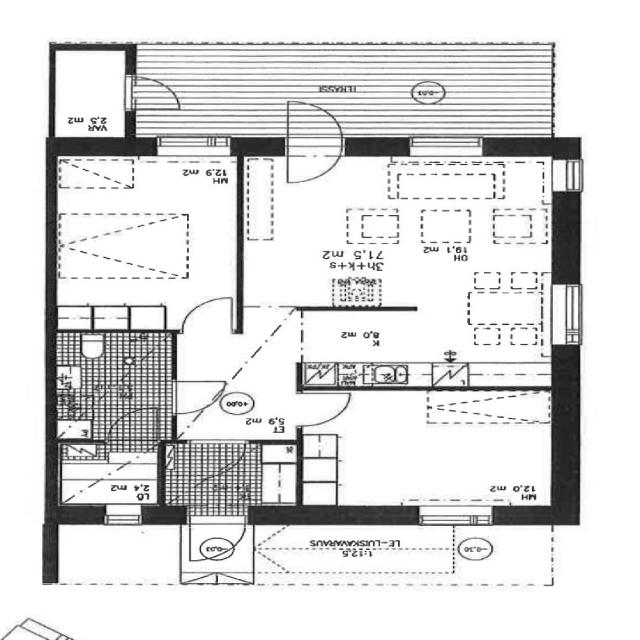door: (275, 94, 348, 190), (179, 510, 252, 563), (287, 385, 361, 429), (161, 372, 226, 420), (177, 294, 244, 338), (124, 73, 186, 116)
window: (544, 277, 588, 353), (405, 500, 503, 530), (146, 134, 237, 160), (402, 134, 493, 158), (550, 152, 588, 198), (95, 502, 156, 528)
zone: (258, 136, 570, 380), (49, 148, 243, 332), (296, 389, 560, 516), (48, 331, 176, 444), (154, 440, 309, 514), (51, 442, 165, 510)
